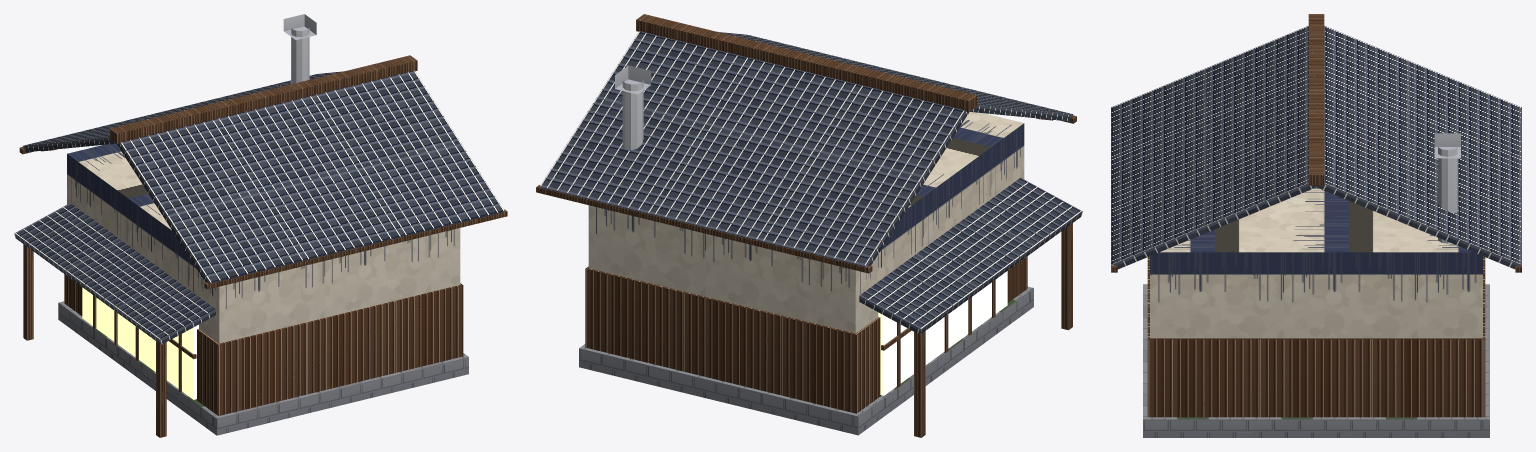
Rendered from ichiban_ramen.glb.
3 renders of one model, left to right at view 1: azimuth 30°, elevation 25°; view 2: azimuth 150°, elevation 25°; view 3: azimuth 270°, elevation 25°, orthographic. The views are drawn at different scales.
Parts seen in each view (by area): view 1: ichiban_ramen; view 2: ichiban_ramen; view 3: ichiban_ramen.
Boxes of the visible parts, <box> form: ichiban_ramen: <box>14,14,507,437</box>; ichiban_ramen: <box>536,14,1082,437</box>; ichiban_ramen: <box>1111,14,1521,437</box>.
Size of the model in its own units: 8.81 by 6.66 by 8.76.
6 materials, 4 textured.
